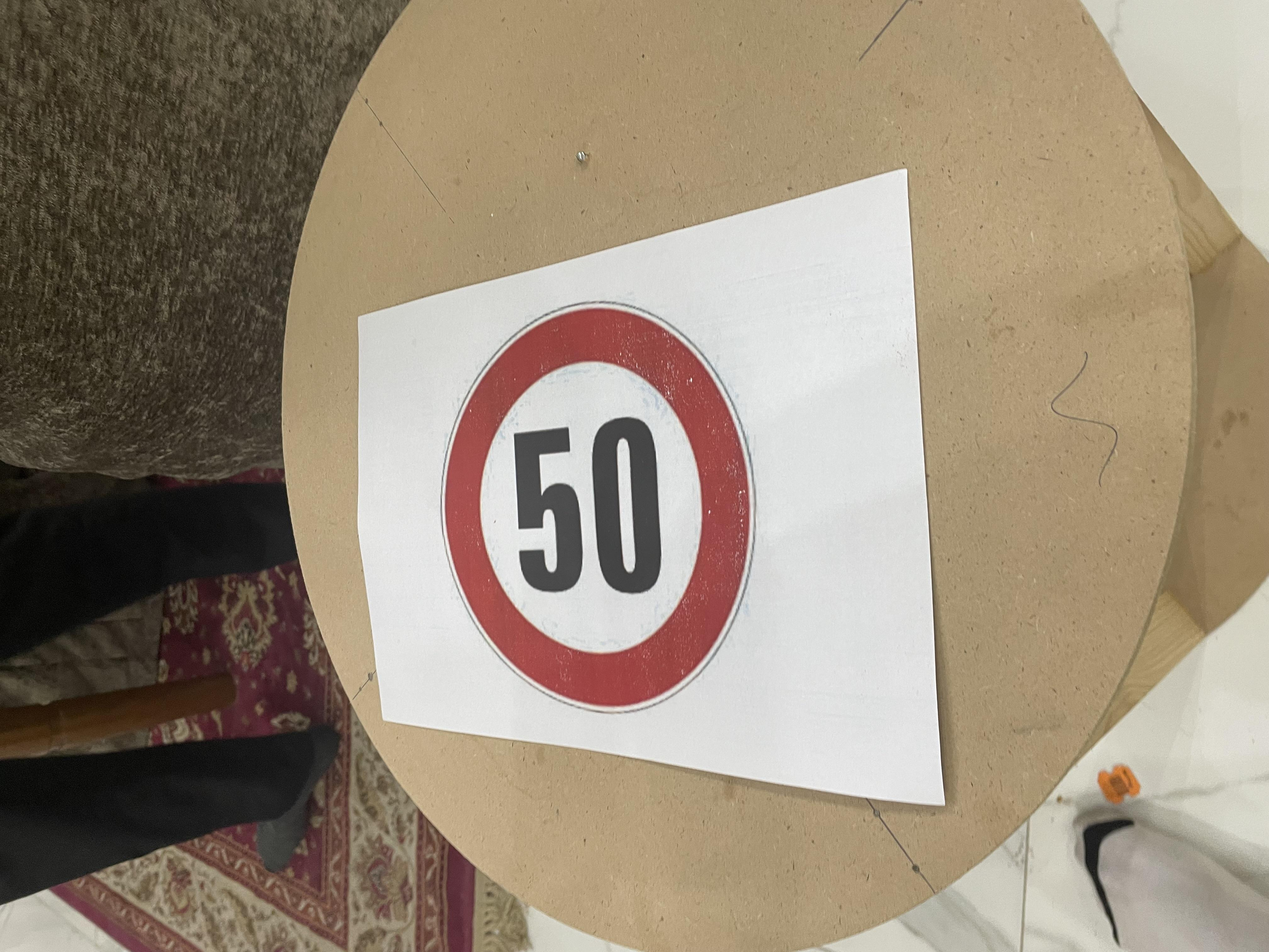50-Speed: (320, 319, 892, 587)
